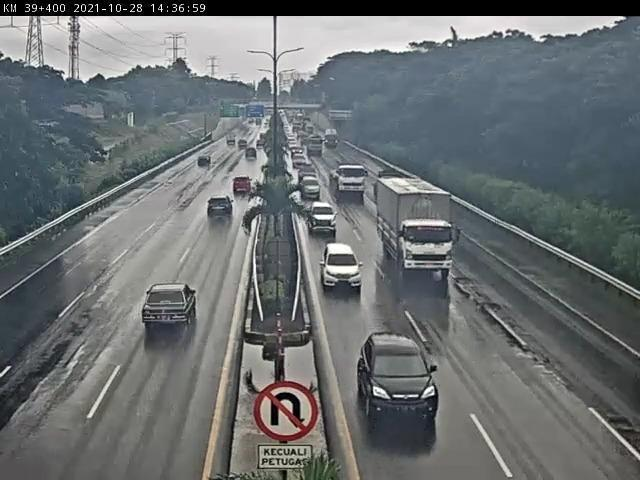car: (366, 336, 441, 428), (321, 245, 362, 297), (152, 288, 194, 331), (303, 201, 340, 233), (207, 199, 243, 221), (234, 169, 258, 194), (310, 176, 325, 204)
truck: (383, 182, 463, 276), (327, 168, 376, 200)
